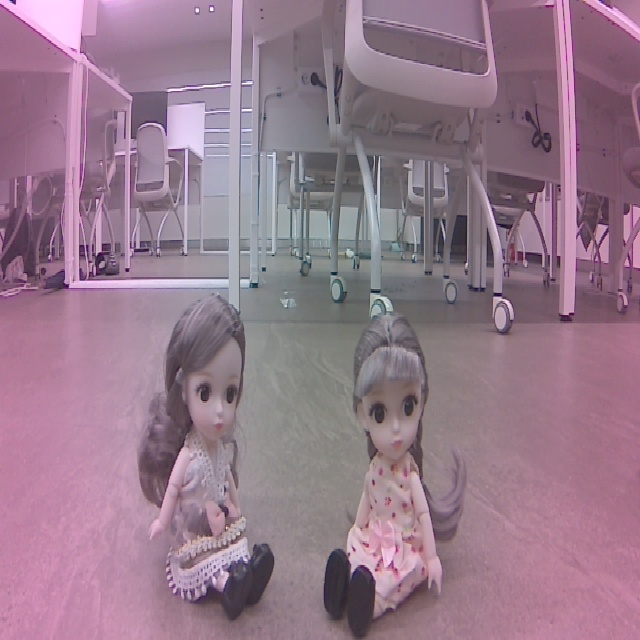장애물: (173, 264, 344, 576), (432, 275, 559, 578)
